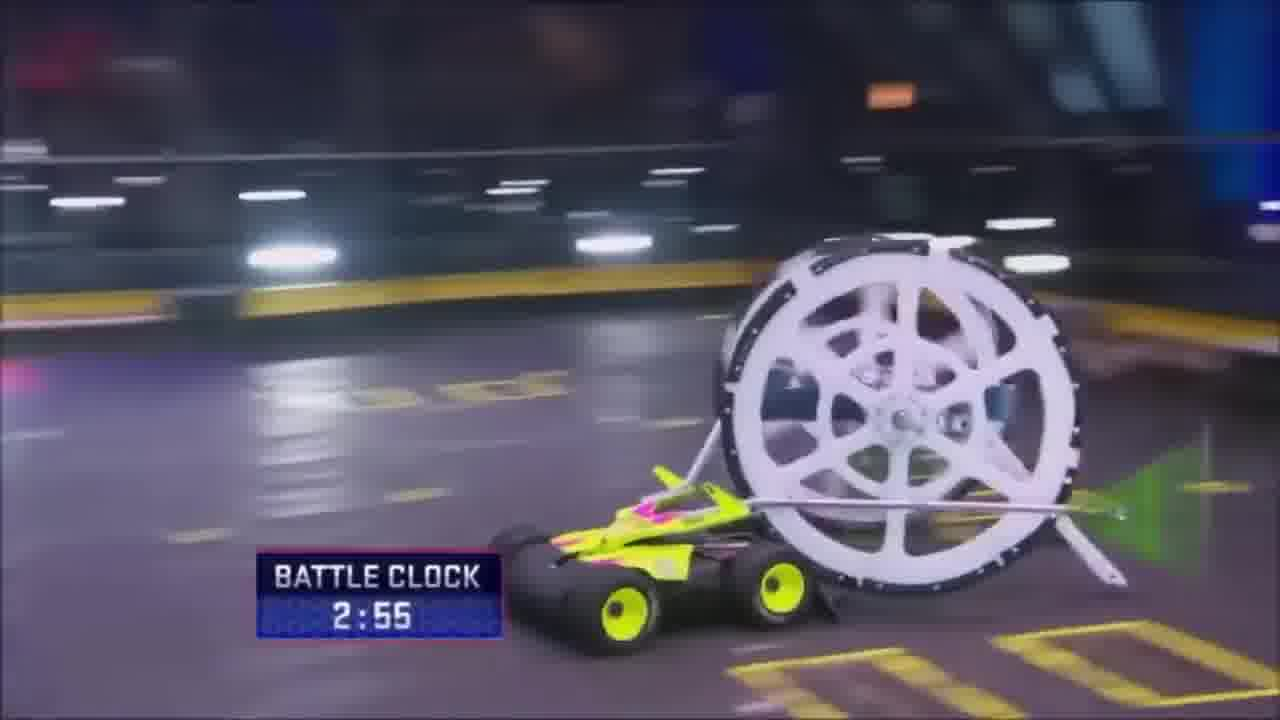combatbot: (710, 239, 1120, 593), (491, 477, 841, 651)
